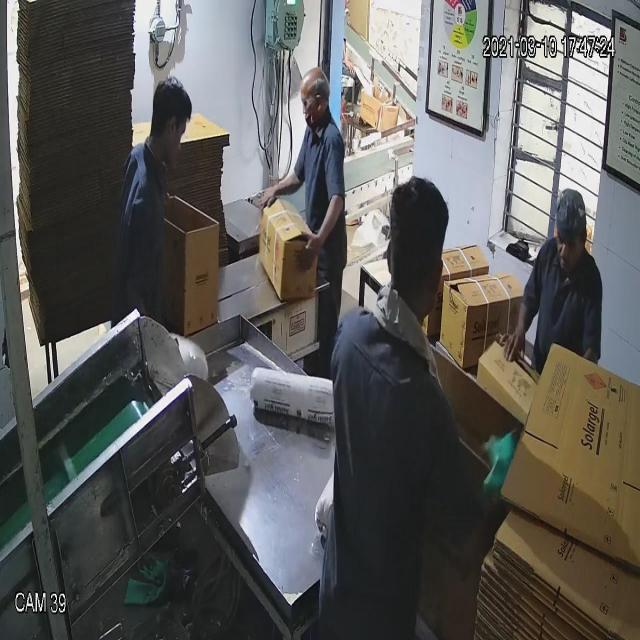No_Gloves: (36, 65, 518, 333)
